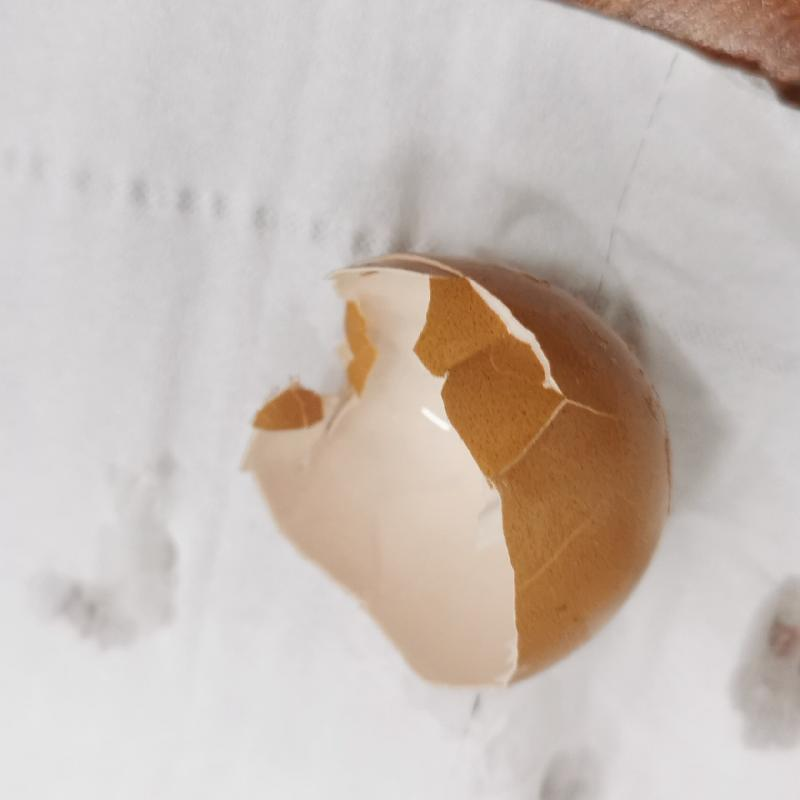eggshell: (231, 252, 678, 694)
